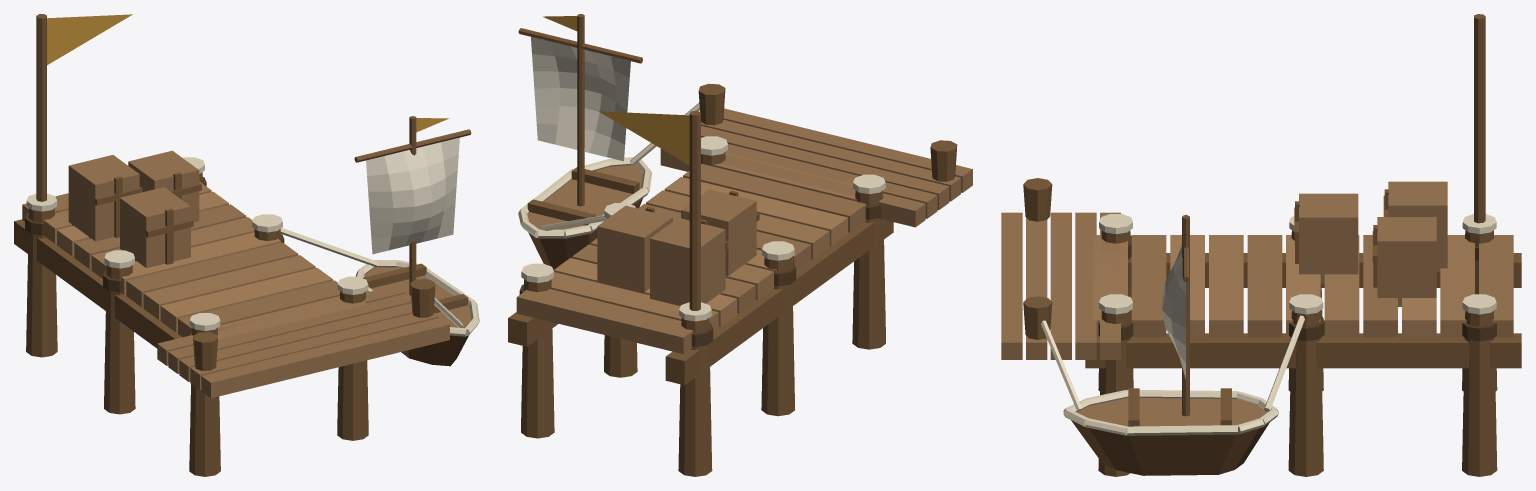
Rendered from harbor-generic.glb.
3 views of the same model, side by side, from view 1: azimuth 30°, elevation 25°; view 2: azimuth 150°, elevation 25°; view 3: azimuth 270°, elevation 25° (orthographic). The views are drawn at different scales.
Parts seen in each view (by area): view 1: harbor-generic, harbor-generic.003, harbor-generic.008, harbor-generic.001, harbor-generic.002, harbor-generic.004, harbor-generic.009, harbor-generic.006, harbor-generic.005, harbor-generic.007; view 2: harbor-generic, harbor-generic.003, harbor-generic.008, harbor-generic.001, harbor-generic.004, harbor-generic.002, harbor-generic.009, harbor-generic.005, harbor-generic.006, harbor-generic.007; view 3: harbor-generic, harbor-generic.003, harbor-generic.001, harbor-generic.004, harbor-generic.002, harbor-generic.007, harbor-generic.006, harbor-generic.008, harbor-generic.005.
Boxes of the visible parts, left/top/right/bottom form: harbor-generic: left=22, top=150, right=471, bottom=398; harbor-generic.003: left=14, top=14, right=471, bottom=476; harbor-generic.008: left=366, top=137, right=459, bottom=254; harbor-generic.001: left=43, top=182, right=367, bottom=339; harbor-generic.002: left=57, top=191, right=332, bottom=332; harbor-generic.004: left=26, top=157, right=479, bottom=336; harbor-generic.009: left=47, top=14, right=448, bottom=132; harbor-generic.006: left=401, top=335, right=464, bottom=366; harbor-generic.005: left=25, top=177, right=284, bottom=335; harbor-generic.007: left=408, top=336, right=468, bottom=365; harbor-generic: left=516, top=108, right=972, bottom=354; harbor-generic.003: left=508, top=14, right=957, bottom=476; harbor-generic.008: left=531, top=37, right=630, bottom=161; harbor-generic.001: left=551, top=152, right=883, bottom=332; harbor-generic.004: left=518, top=102, right=885, bottom=321; harbor-generic.002: left=553, top=177, right=847, bottom=326; harbor-generic.009: left=543, top=16, right=689, bottom=165; harbor-generic.005: left=519, top=204, right=881, bottom=347; harbor-generic.006: left=540, top=198, right=642, bottom=269; harbor-generic.007: left=528, top=232, right=589, bottom=266; harbor-generic: left=1001, top=181, right=1513, bottom=426; harbor-generic.003: left=1023, top=14, right=1521, bottom=476; harbor-generic.001: left=1093, top=235, right=1474, bottom=337; harbor-generic.004: left=1041, top=214, right=1496, bottom=435; harbor-generic.002: left=1170, top=235, right=1436, bottom=337; harbor-generic.007: left=1071, top=420, right=1269, bottom=475; harbor-generic.006: left=1089, top=428, right=1258, bottom=475; harbor-generic.008: left=1162, top=242, right=1185, bottom=379; harbor-generic.005: left=1098, top=236, right=1496, bottom=341.
Size of the model in its own units: 0.7868 by 0.735 by 0.93.
